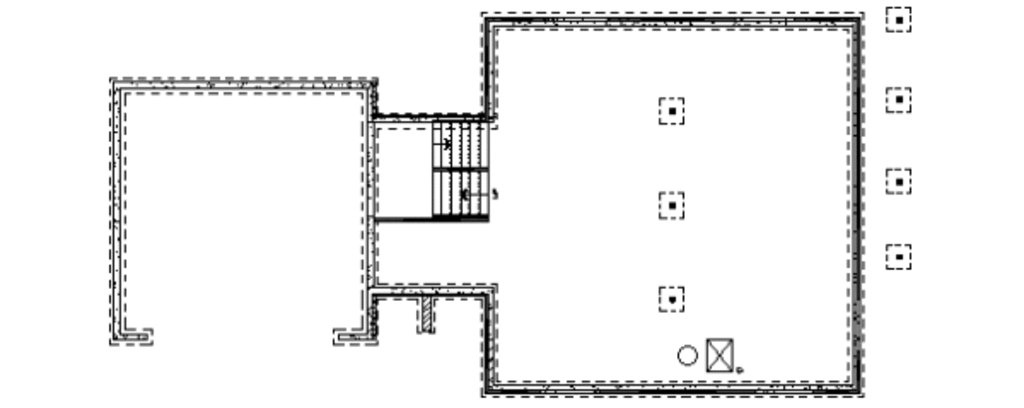stairs: (410, 119, 521, 217)
